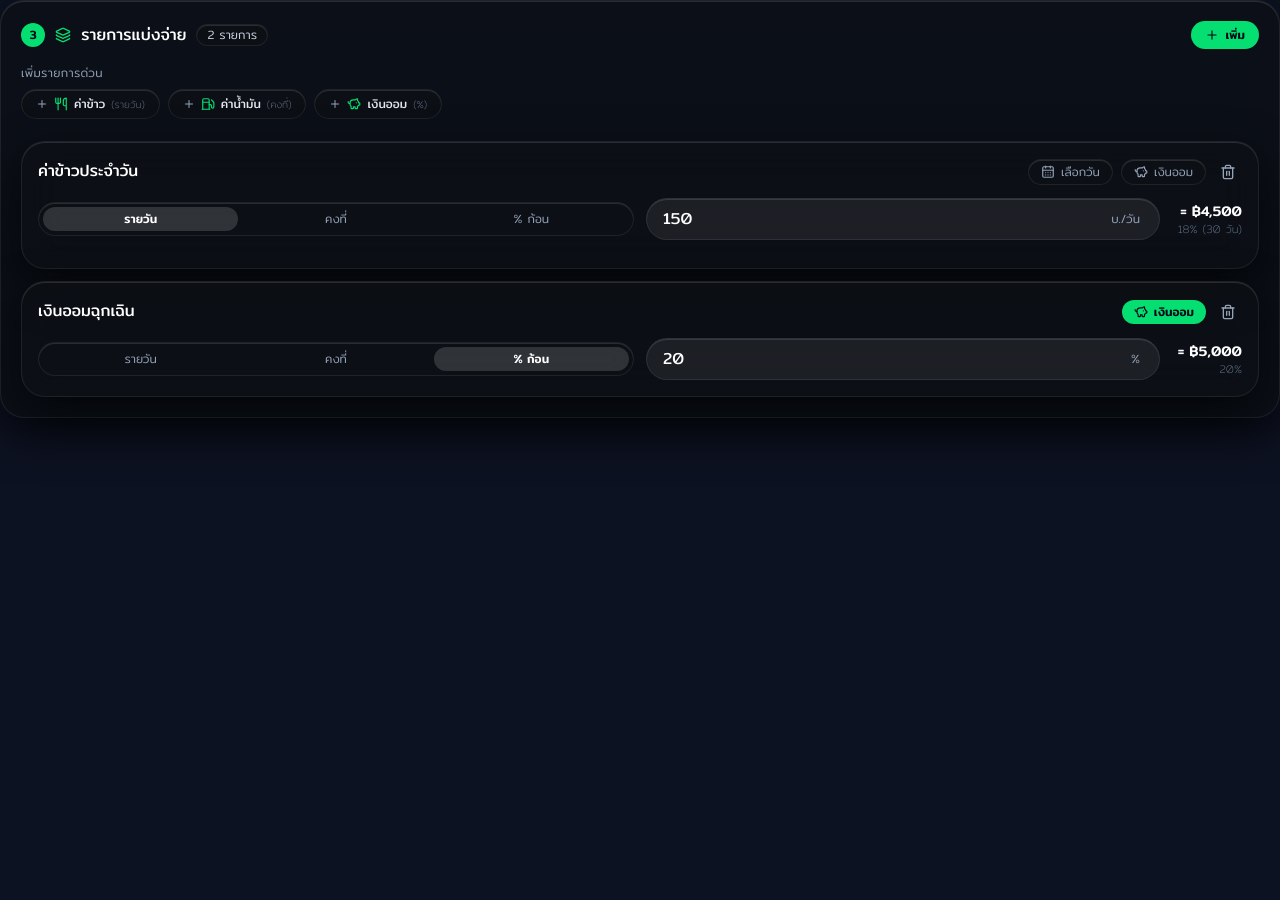
CategoryList & QuickAddChips Components › renders "เลือกวัน" button for daily items and toggles calendar grid accordion
// Click 'เลือกวัน'
Click the button "เลือกวัน" at (1071, 172), box [1028,159,1113,185]
(page scrolled)
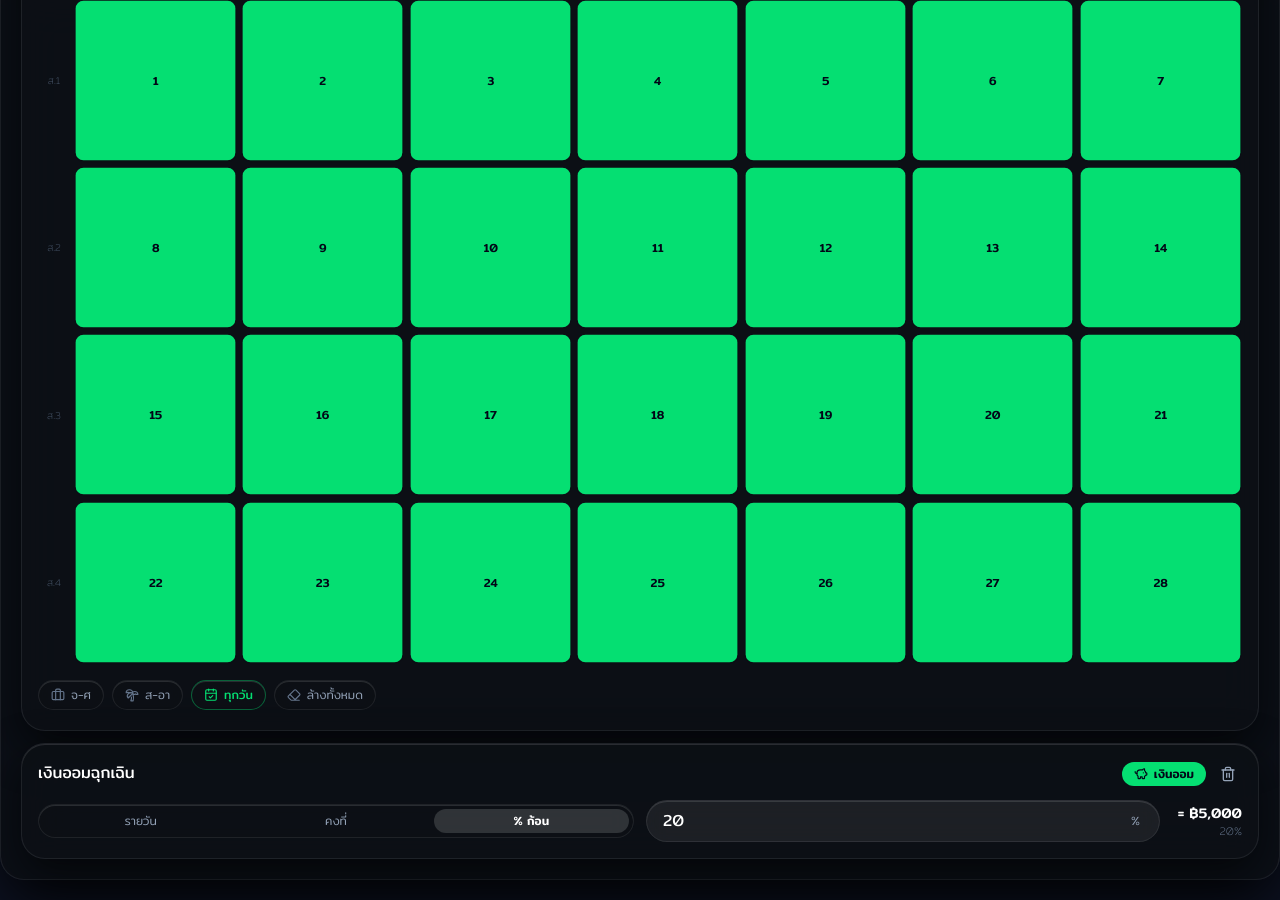
Result: the button "จ-ศ" is shown at [38,680,104,710]
